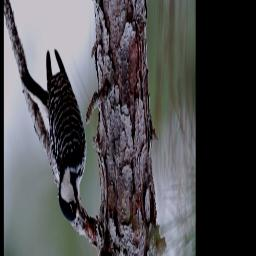Woodpecker: (21, 48, 89, 229)
